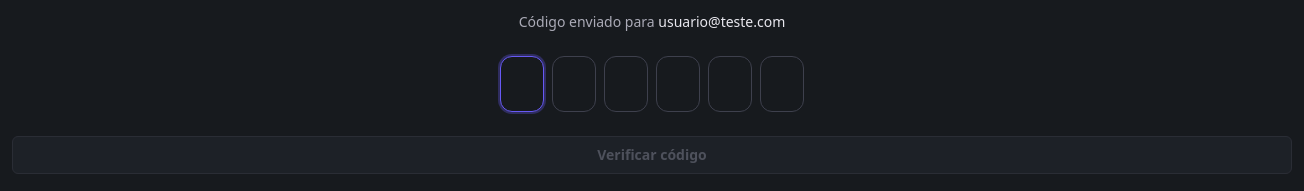
Test: ValidarCodigoForm › botão fica habilitado com 6 dígitos
Type "1" into the 1st field.
click(522, 84); type("1")  # box [500,56,544,112]
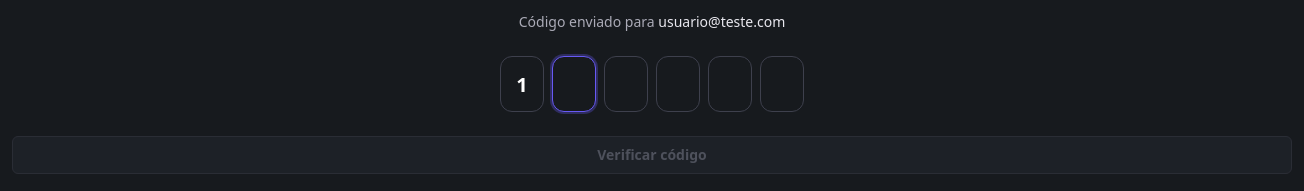
Type "2" into the 2nd field.
click(574, 84); type("2")  # box [552,56,596,112]
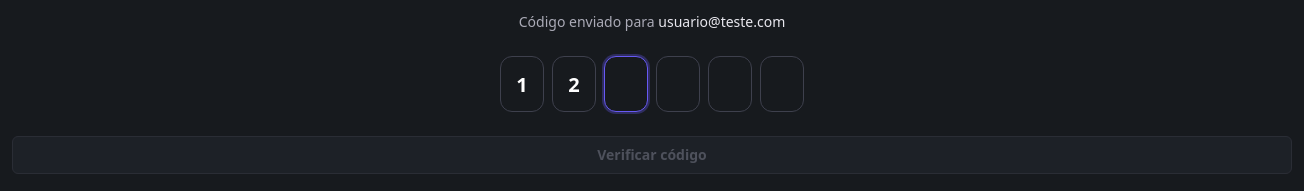
Type "3" into the 3rd field.
click(626, 84); type("3")  # box [604,56,648,112]
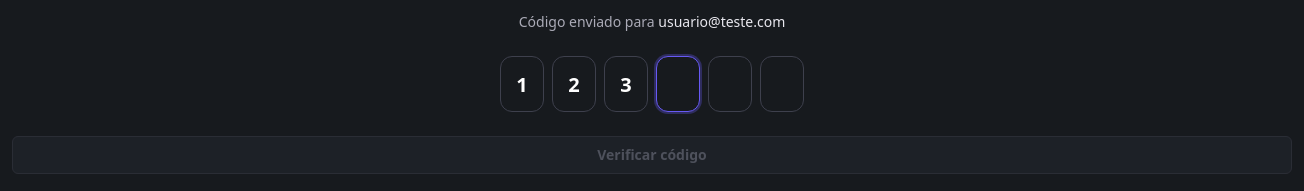
Type "4" into the 4th field.
click(678, 84); type("4")  # box [656,56,700,112]
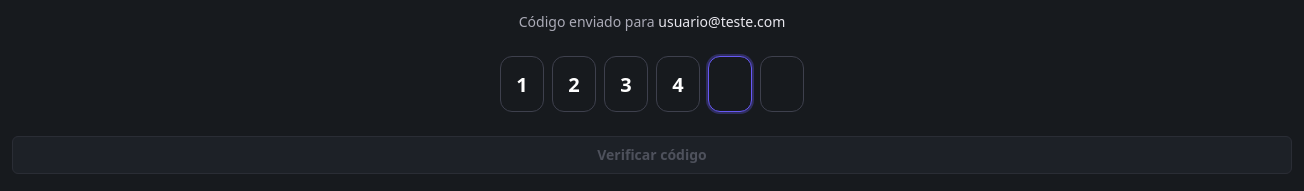
Type "5" into the 5th field.
click(730, 84); type("5")  # box [708,56,752,112]
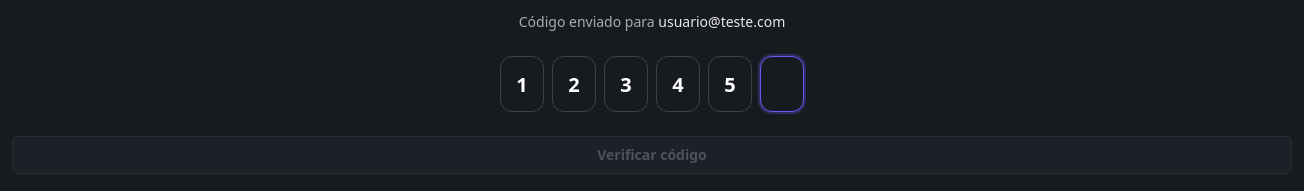
Type "6" into the 6th field.
click(782, 84); type("6")  # box [760,56,804,112]
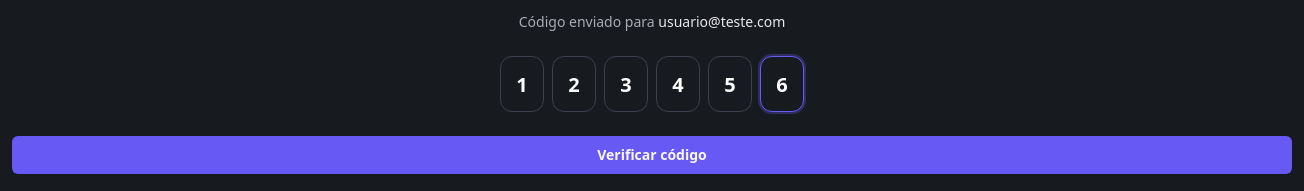
Expected: the button "Verificar código" is enabled, [12,136,1292,174]
